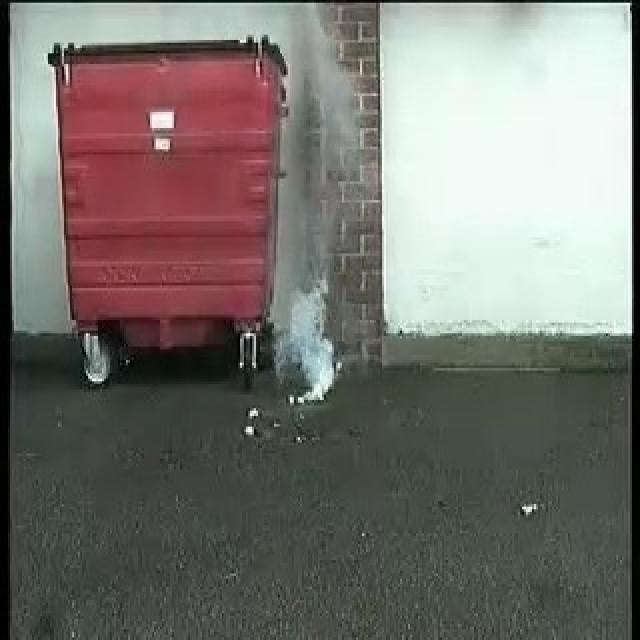smoke: (274, 108, 361, 404)
